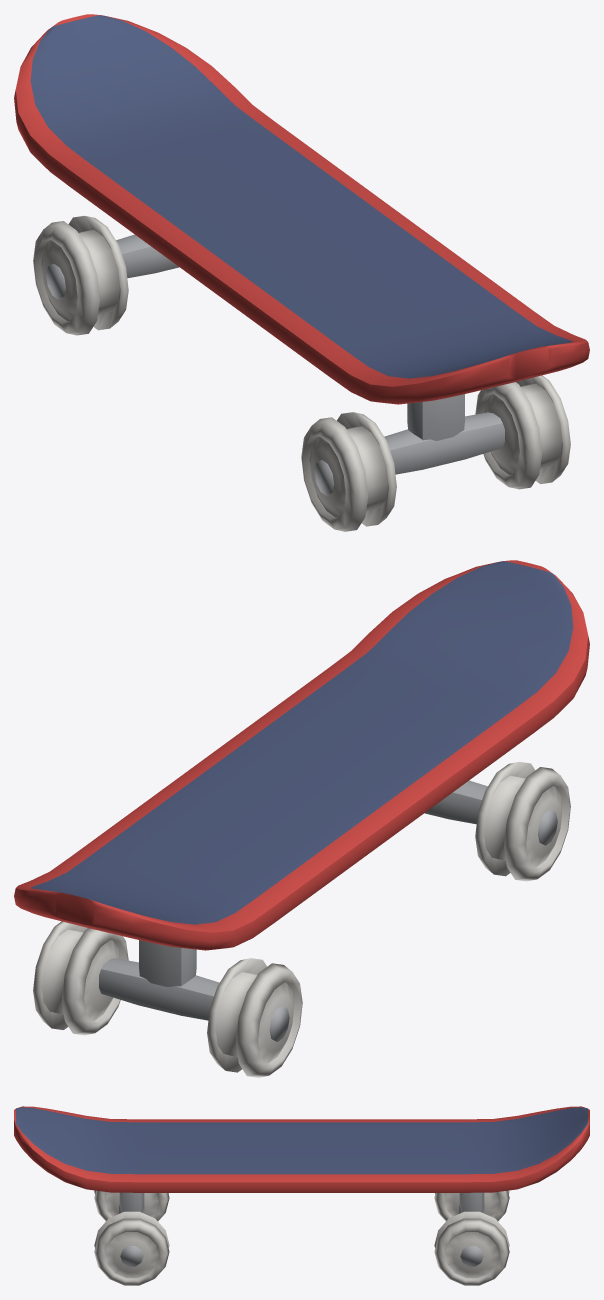
File: skateboard.glb
3 views of the same model, one above another, from view 1: azimuth 30°, elevation 25°; view 2: azimuth 150°, elevation 25°; view 3: azimuth 270°, elevation 25° (orthographic). The views are drawn at different scales.
Parts seen in each view (by area): view 1: deck, wheel_fr, wheel_rr, wheel_fl, truck_f_mesh, truck_r_mesh; view 2: deck, wheel_fr, wheel_rr, wheel_rl, truck_r_mesh, truck_f_mesh; view 3: deck, wheel_fl, wheel_rl, wheel_fr, wheel_rr, truck_f_mesh, truck_r_mesh.
Boxes of the visible parts, <box> form: deck: <box>14,14,589,404</box>; wheel_fr: <box>301,412,396,531</box>; wheel_rr: <box>33,215,128,335</box>; wheel_fl: <box>475,375,570,489</box>; truck_f_mesh: <box>384,394,504,474</box>; truck_r_mesh: <box>116,234,179,278</box>; deck: <box>14,560,589,950</box>; wheel_fr: <box>475,761,570,881</box>; wheel_rr: <box>207,958,302,1077</box>; wheel_rl: <box>33,921,128,1035</box>; truck_r_mesh: <box>99,940,219,1020</box>; truck_f_mesh: <box>424,780,487,824</box>; deck: <box>14,1106,589,1192</box>; wheel_fl: <box>94,1211,169,1285</box>; wheel_rl: <box>434,1211,509,1285</box>; wheel_fr: <box>94,1190,169,1221</box>; wheel_rr: <box>434,1190,509,1221</box>; truck_f_mesh: <box>119,1192,144,1213</box>; truck_r_mesh: <box>459,1192,484,1213</box>.
Bounding box in the file's own units: 0.3306 × 0.3108 × 1.15.
